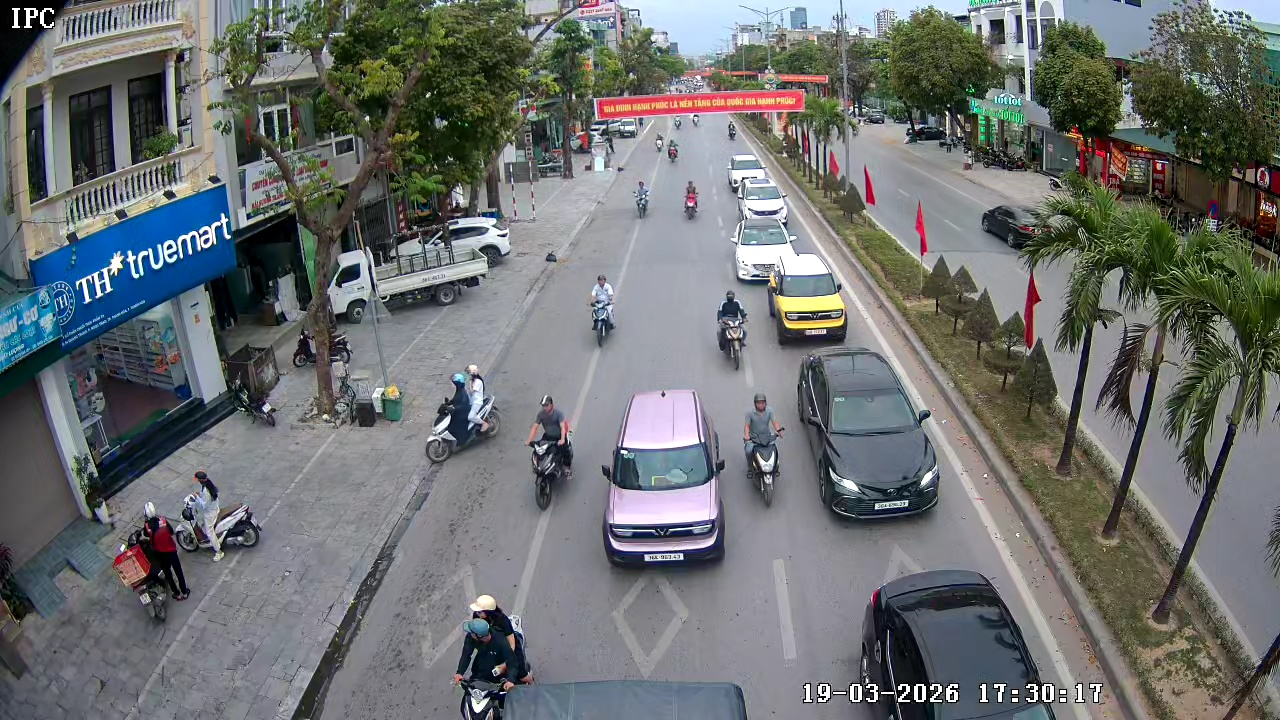car: (845, 569, 1068, 719), (797, 346, 942, 518), (599, 387, 729, 568), (767, 252, 848, 346), (731, 214, 795, 284), (736, 177, 790, 227), (726, 152, 767, 194)
motorbike: (449, 594, 536, 719), (123, 501, 193, 624), (423, 365, 502, 465), (175, 468, 263, 557), (525, 393, 576, 511), (740, 391, 787, 508), (714, 289, 750, 371), (587, 273, 618, 348), (632, 177, 652, 218), (682, 178, 701, 221), (670, 134, 682, 163), (661, 132, 672, 163), (726, 113, 737, 141)
